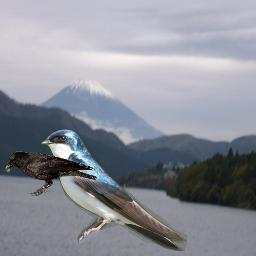Crow: (4, 151, 97, 196)
Swallow: (40, 129, 187, 251)
